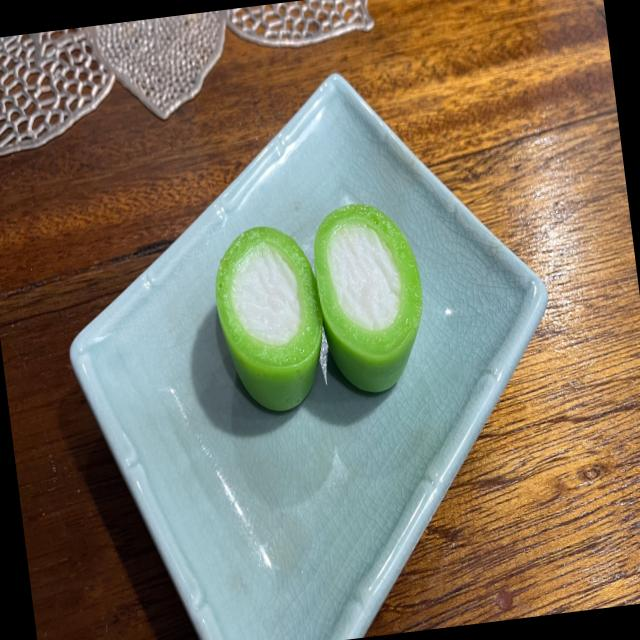nona-manis: (314, 203, 422, 392), (215, 226, 323, 411)
